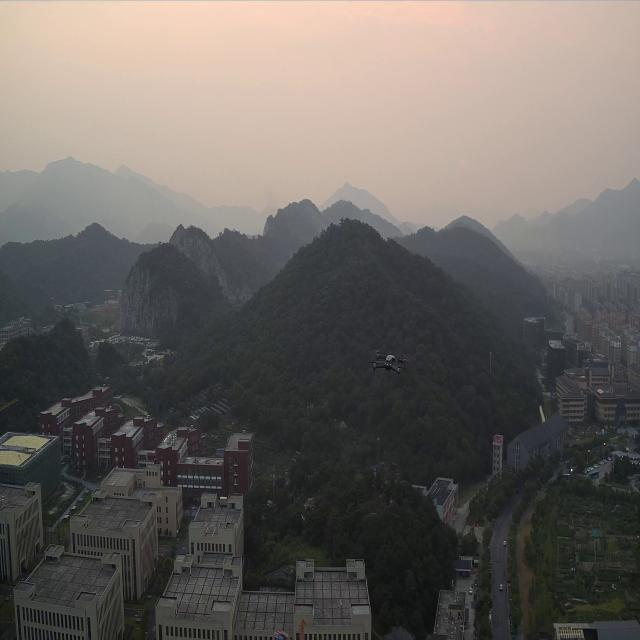UAV: (370, 349, 408, 375)
